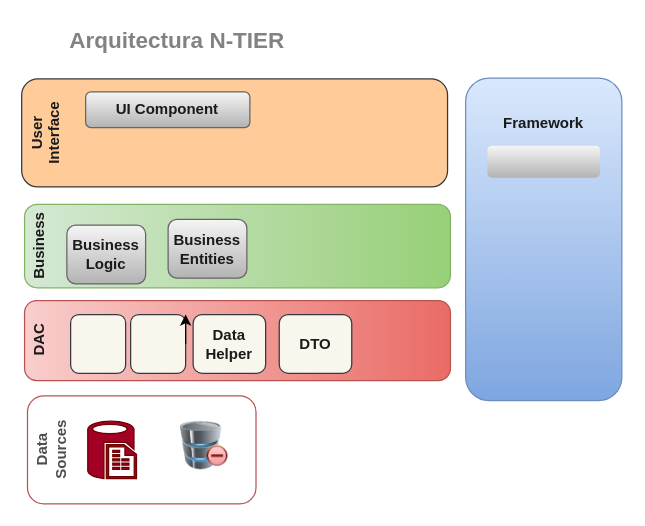
The diagram is 645 pixels wide and 526 high, and some of its shapes have lost their labels. Here are the shapes that lost their labels. From the top down, the centre of each, then its label:
At [543,161]: "Exception".
At [97,343]: "DAO".
At [157,343]: "IDAO".
At [111,449]: "SQLITE".
At [204,445]: "database".
